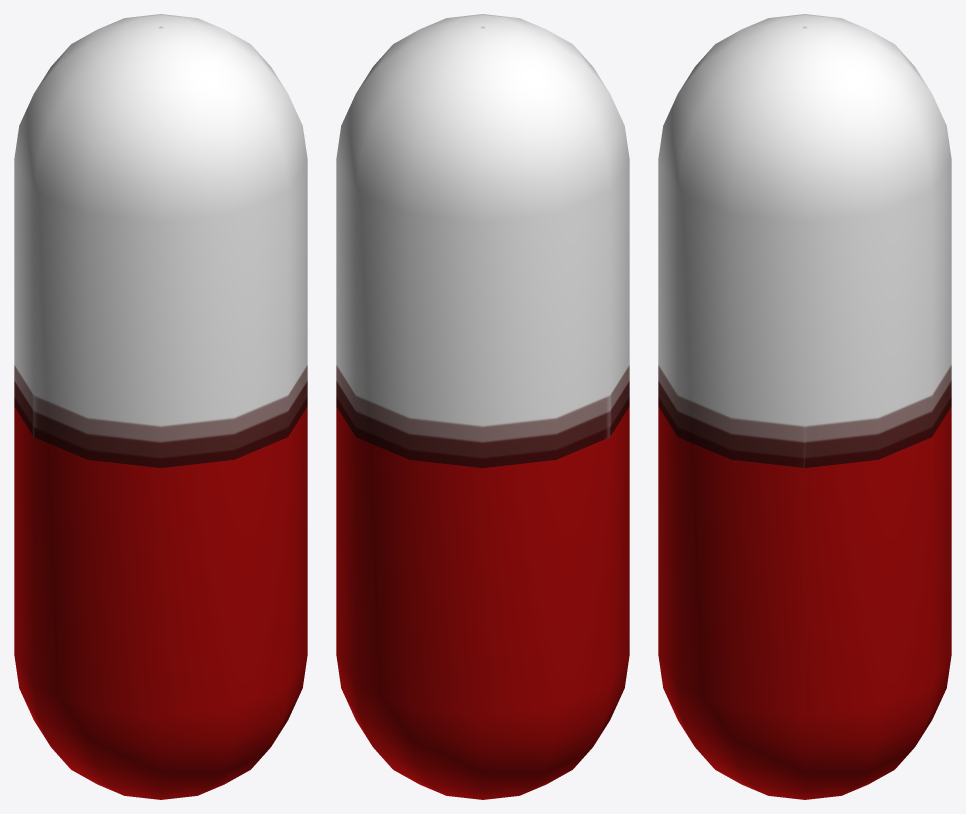
The model's file is pill.obj.
3 views of the same model, side by side, from view 1: azimuth 30°, elevation 25°; view 2: azimuth 150°, elevation 25°; view 3: azimuth 270°, elevation 25° (orthographic).
Parts seen in each view (by area): view 1: Capsule01; view 2: Capsule01; view 3: Capsule01.
Boxes of the visible parts, left/top/right/bottom form: Capsule01: left=14, top=14, right=307, bottom=799; Capsule01: left=336, top=14, right=629, bottom=799; Capsule01: left=658, top=14, right=951, bottom=799.
Bounding box in the file's own units: 14.13 × 40.33 × 14.13.
